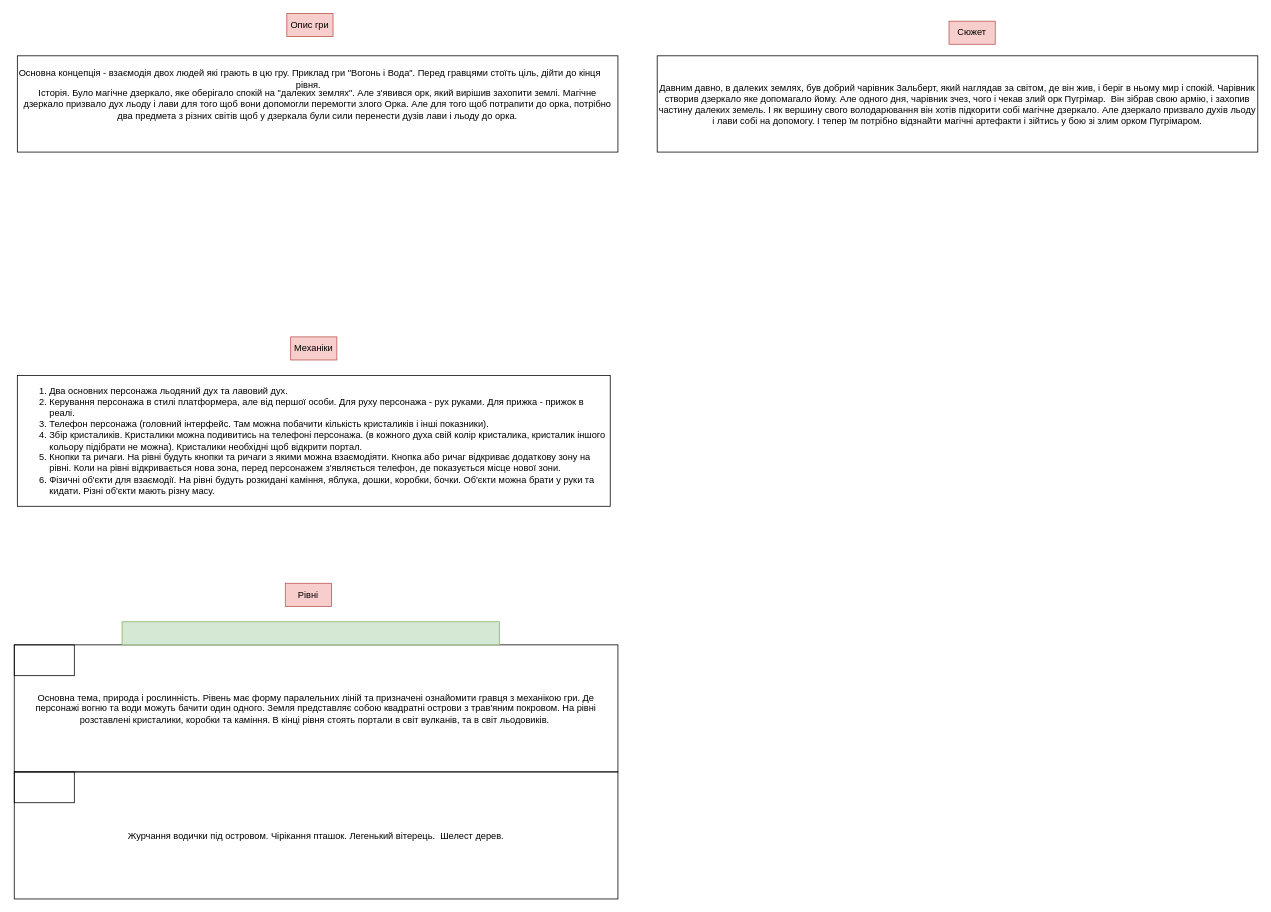
This 1271x912 diagram has some shape labels left out. The shapes that lost their labels are listed below. From the top down, each one's centre as x and y in pixels, then its label:
At (x=310, y=633): "Рівень 1".
At (x=43, y=660): "ОПИС".
At (x=43, y=787): "Звуки".
